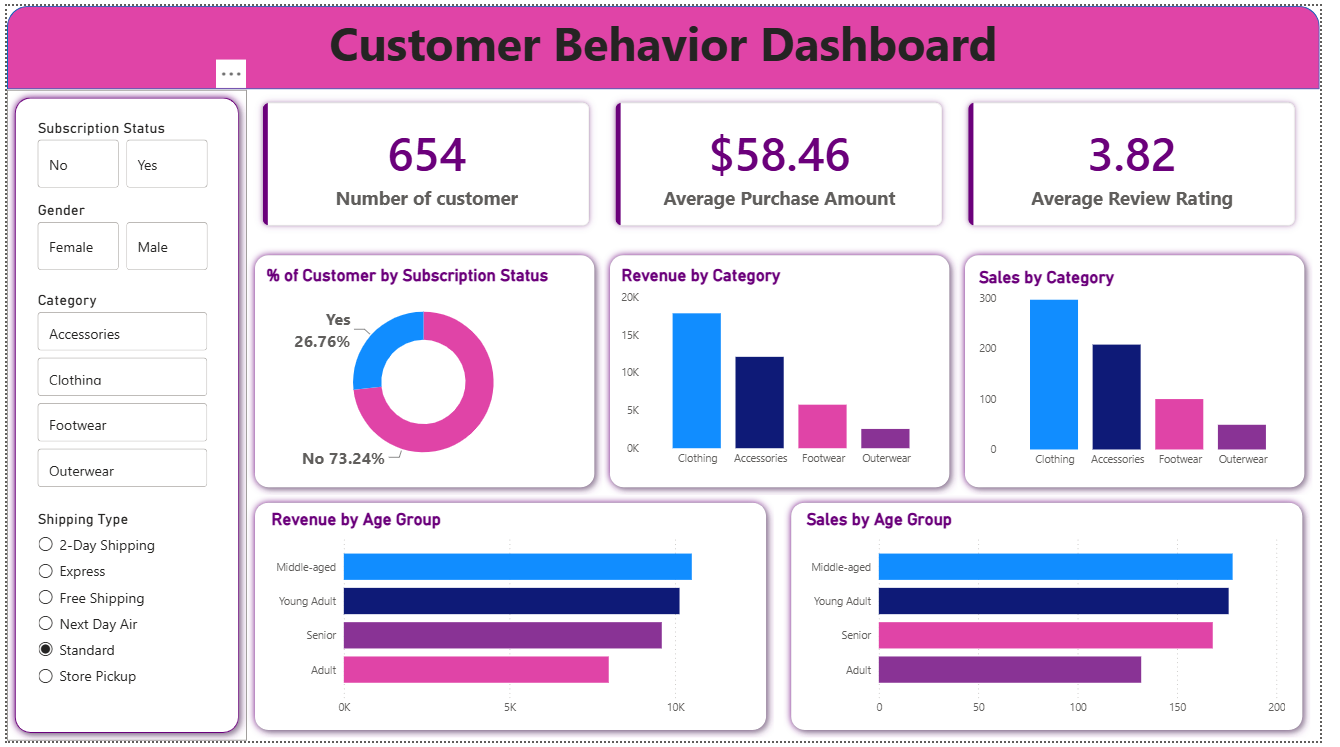

The page's visual inventory and layout, read from the dashboard file:
{"tool":"powerbi","page":{"name":"Page 1","canvas":[1500,840],"ordinal":0},"visuals":[{"type":"cardVisual","fields":{"Data":["public customer.Number of customer","public customer.Average Purchase Amount","public customer.Average Review Rating"]},"box":[264.4,83.1,1235.9,196.2],"z":0},{"type":"shape","box":[0,0,1500.3,95.4],"z":1000},{"type":"textbox","box":[0,0,1500.3,83.1],"z":2000},{"type":"shape","box":[680,275.3,406.1,283.4],"z":3000},{"type":"shape","box":[273.9,275.3,406.1,283.4],"z":4000},{"type":"shape","box":[1086,275.3,406.1,283.4],"z":5000},{"type":"clusteredColumnChart","title":"Revenue by Category","fields":{"Y":["Sum(public customer.purchase_amount)"],"Category":["public customer.category"]},"box":[697.7,297.1,370.6,238.5],"z":6000},{"type":"donutChart","title":"% of Customer by Subscription Status","fields":{"Category":["public customer.subscription_status"],"Y":["CountNonNull(public customer.customer_id)"]},"box":[291.6,297.1,369.3,243.9],"z":7000},{"type":"clusteredColumnChart","title":"Sales by Category","fields":{"Y":["CountNonNull(public customer.customer_id)"],"Category":["public customer.category"]},"box":[1105.1,298.4,369.3,238.5],"z":8000},{"type":"shape","box":[0,95.4,273.9,744],"z":9000},{"type":"advancedSlicerVisual","fields":{"Values":["public customer.subscription_status"]},"box":[30,128.1,204.4,84.5],"z":10000},{"type":"advancedSlicerVisual","fields":{"Values":["public customer.category"]},"box":[30,325.7,204.4,233],"z":11000},{"type":"listSlicer","fields":{"Values":["public customer.shipping_type"]},"box":[30,576.4,204.4,226.2],"z":12000},{"type":"advancedSlicerVisual","fields":{"Values":["public customer.gender"]},"box":[30,223.5,204.4,84.5],"z":13000},{"type":"shape","box":[273.9,558.7,602.3,278],"z":14000},{"type":"shape","box":[887.1,558.7,602.3,278],"z":15000},{"type":"clusteredBarChart","title":"Revenue by Age Group","fields":{"Y":["Sum(public customer.purchase_amount)"],"Category":["public customer.age_group"]},"box":[297.1,576.4,557.3,243.9],"z":16000},{"type":"clusteredBarChart","title":"Sales by Age Group","fields":{"Y":["CountNonNull(public customer.customer_id)"],"Category":["public customer.age_group"]},"box":[908.9,576.4,557.3,243.9],"z":17000}]}

Visuals, with their boxes in screenshot pixels (x1, y1, x2, y2), scaled from the page's 1500x840 canvas onto the 1340x747 screenshot:
cardVisual - public customer.Number of customer x public customer.Average Purchase Amount: (236,74,1339,248)
shape: (0,0,1339,85)
textbox: (0,0,1339,74)
shape: (607,245,970,497)
shape: (245,245,607,497)
shape: (970,245,1333,497)
"Revenue by Category" clusteredColumnChart: (623,264,954,476)
"% of Customer by Subscription Status" donutChart: (260,264,590,481)
"Sales by Category" clusteredColumnChart: (987,265,1317,477)
shape: (0,85,245,746)
advancedSlicerVisual - public customer.subscription_status: (27,114,209,189)
advancedSlicerVisual - public customer.category: (27,290,209,497)
listSlicer - public customer.shipping_type: (27,513,209,714)
advancedSlicerVisual - public customer.gender: (27,199,209,274)
shape: (245,497,783,744)
shape: (792,497,1331,744)
"Revenue by Age Group" clusteredBarChart: (265,513,763,729)
"Sales by Age Group" clusteredBarChart: (812,513,1310,729)
